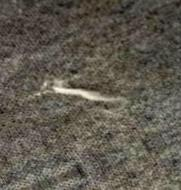snag: (44, 79, 126, 110)
